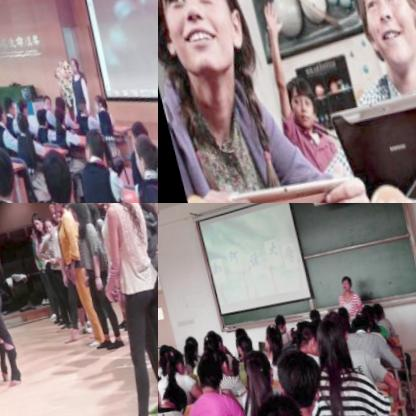head: (158, 0, 253, 88), (339, 0, 416, 78), (269, 344, 322, 413), (308, 315, 353, 376), (32, 141, 74, 203), (278, 75, 316, 131), (123, 131, 158, 188), (235, 347, 274, 395), (283, 313, 320, 359), (244, 390, 306, 416), (73, 123, 106, 170), (189, 353, 224, 397), (158, 380, 187, 416), (0, 142, 17, 203), (124, 175, 158, 203), (159, 345, 185, 377), (205, 344, 228, 377), (258, 323, 280, 353), (200, 327, 223, 355), (64, 203, 88, 228), (350, 308, 370, 338), (67, 91, 88, 117), (85, 89, 103, 115), (28, 104, 46, 130), (231, 333, 250, 356), (8, 111, 26, 134), (268, 311, 285, 335), (0, 90, 14, 119), (358, 300, 374, 324), (47, 105, 62, 130), (180, 332, 196, 355), (368, 298, 384, 321), (178, 341, 195, 362), (331, 303, 348, 324), (28, 212, 43, 235), (229, 325, 246, 345), (47, 92, 63, 113), (11, 97, 27, 117), (35, 91, 49, 113), (303, 307, 320, 325), (335, 274, 350, 293), (39, 217, 53, 237), (63, 55, 76, 74), (45, 203, 63, 213)
